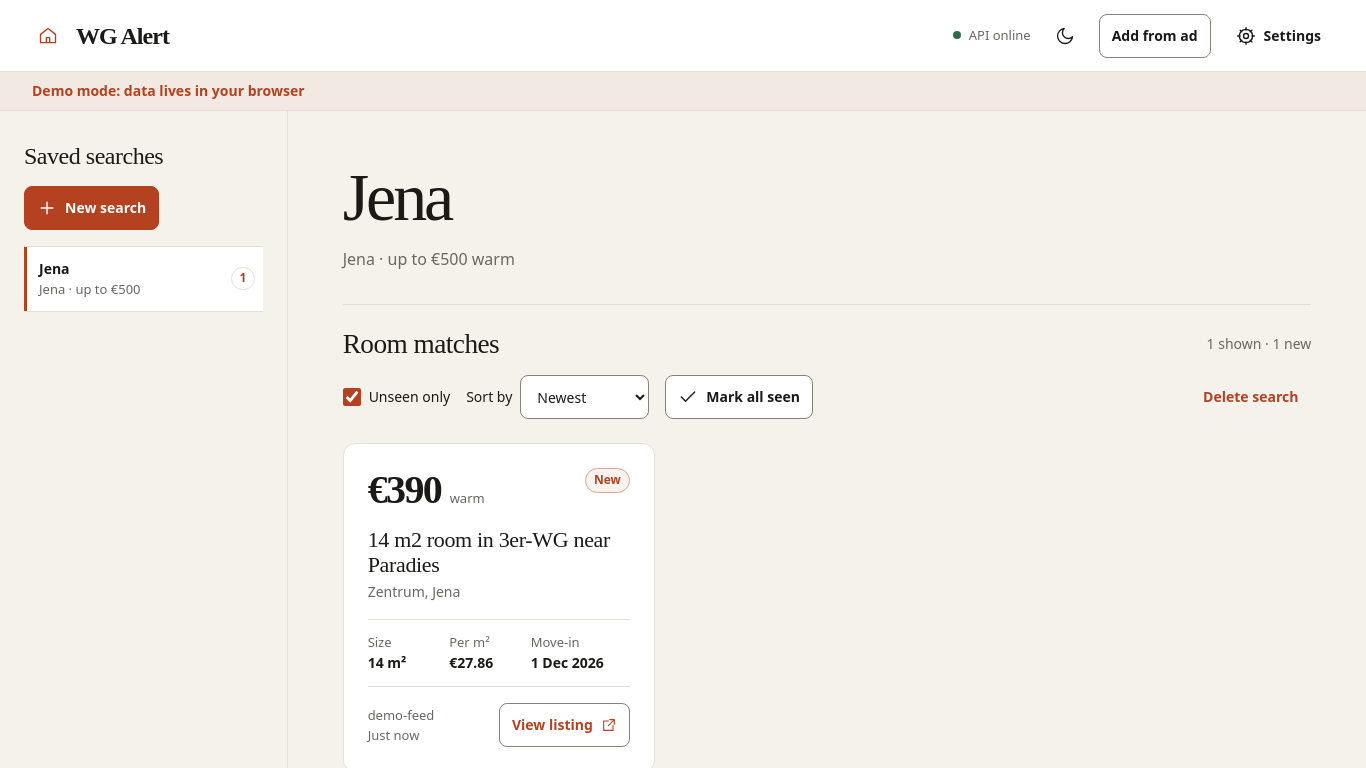
Test: requires delete confirmation and returns to the empty state
The width and height of the screenshot is (1366, 768).
Step 1. Click the button "Delete search" → (1251, 397), box x1=1190 y1=375 x2=1311 y2=419
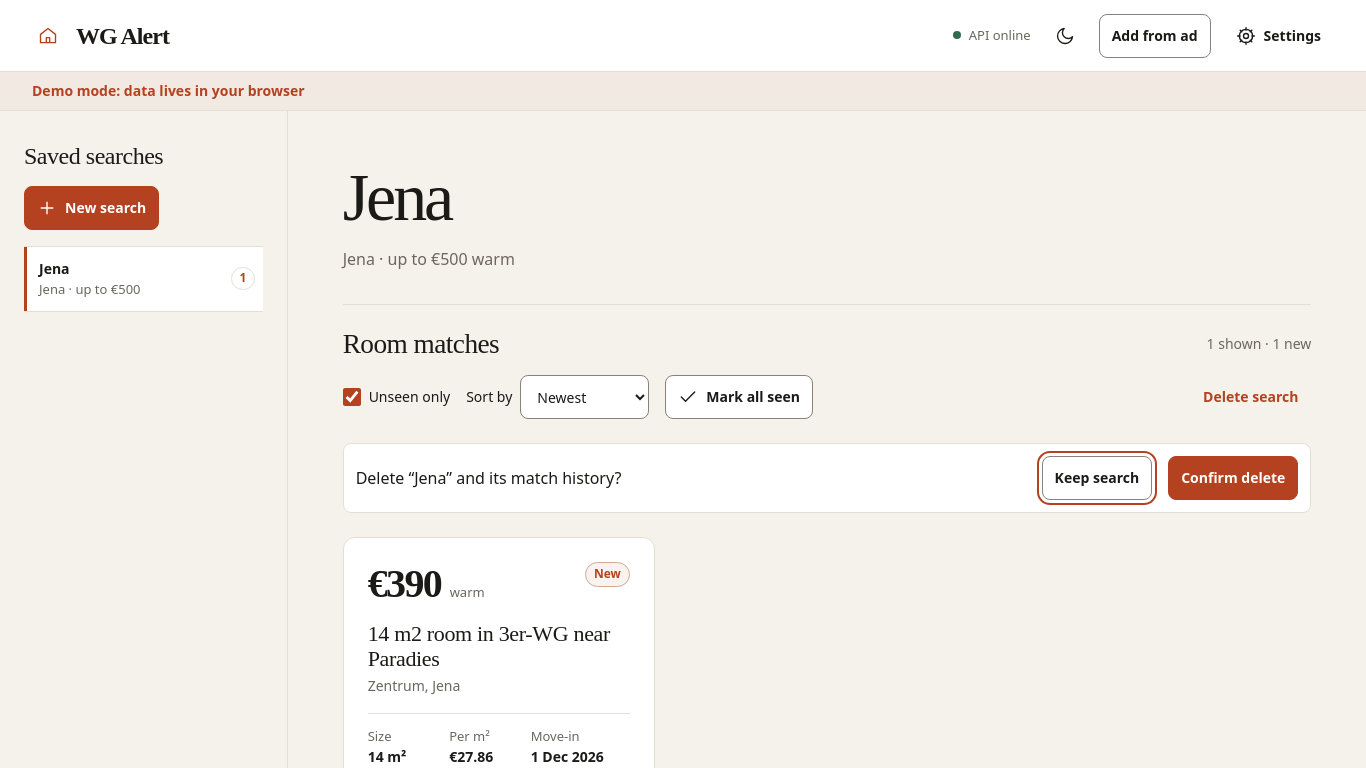
Step 2. Click the button "Keep search" → (1097, 478), box x1=1042 y1=456 x2=1152 y2=500
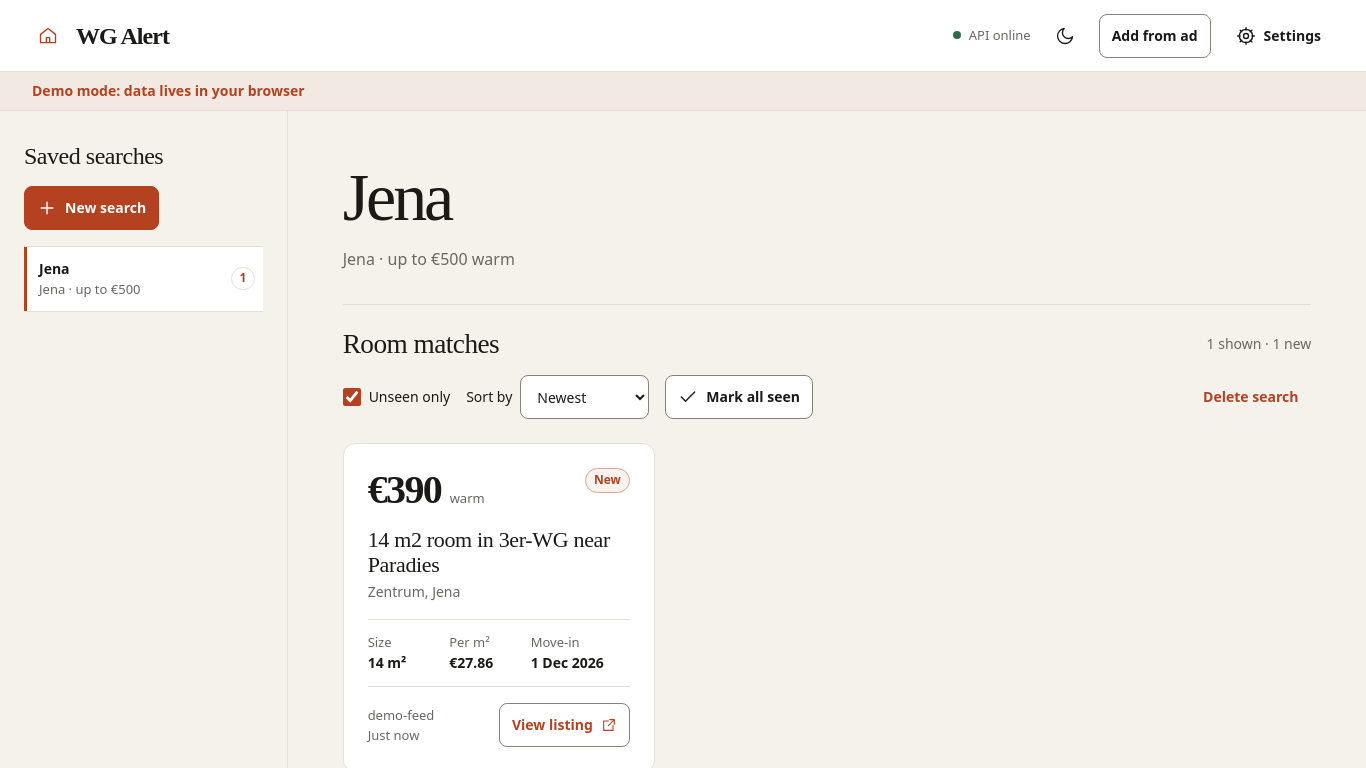
Step 3. Click the button "Delete search" → (1251, 397), box x1=1190 y1=375 x2=1311 y2=419
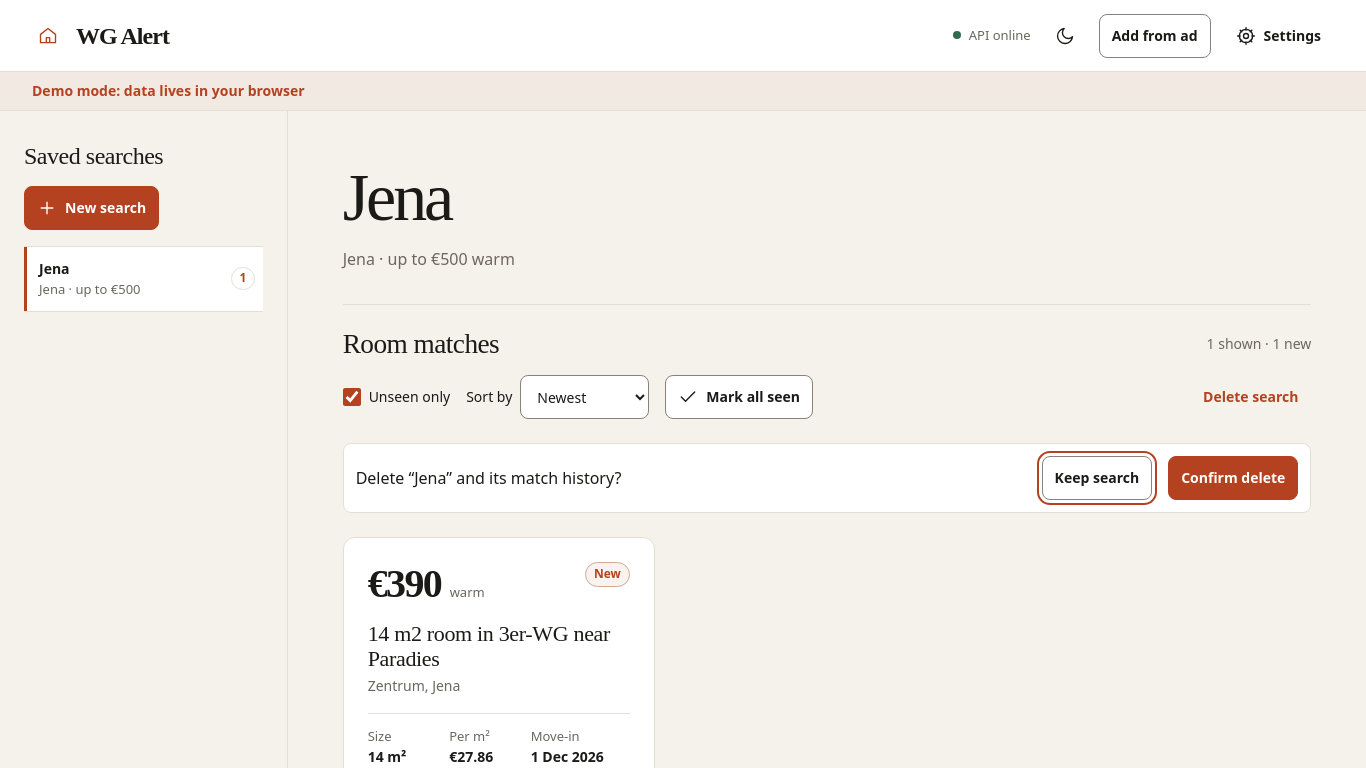
Step 4. Click the button "Confirm delete" → (1233, 478), box x1=1168 y1=456 x2=1298 y2=500
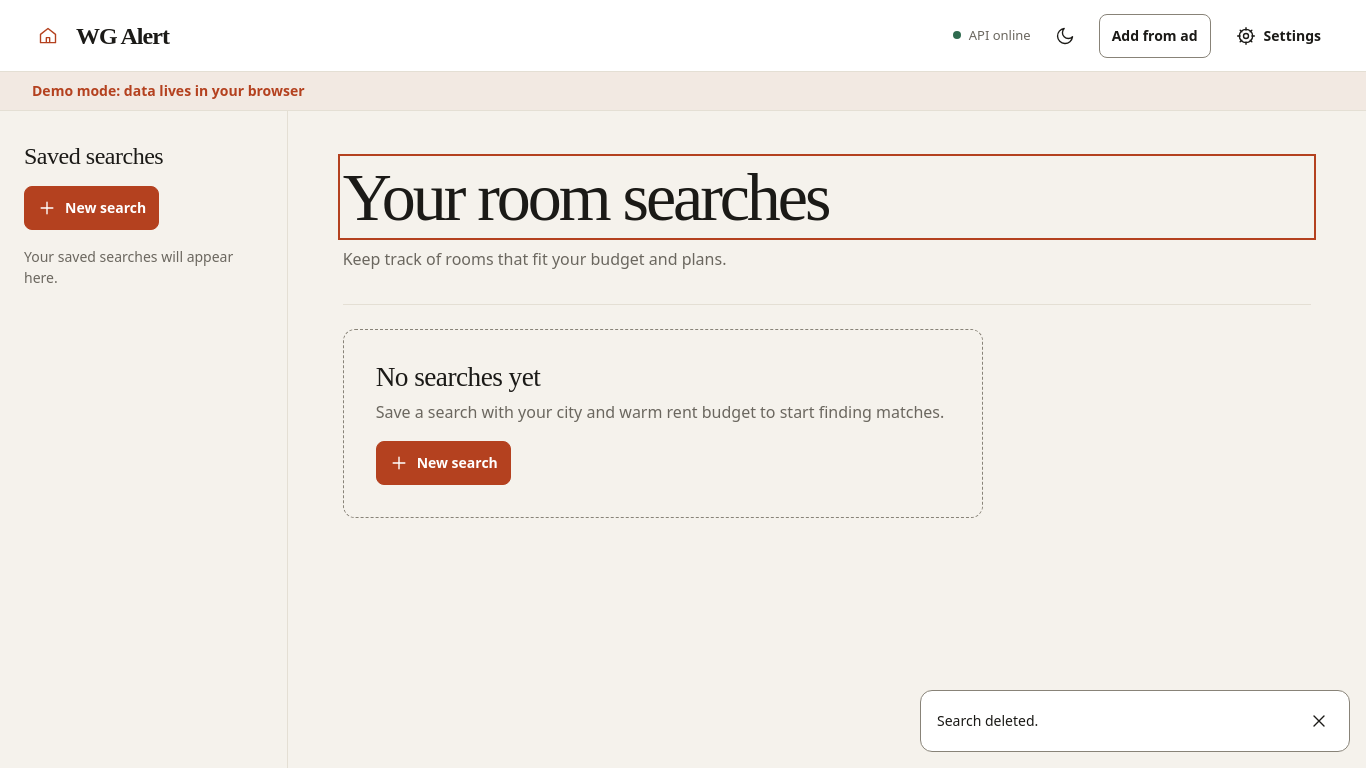
Expected: the heading "No searches yet" is shown, x1=376 y1=362 x2=540 y2=392
